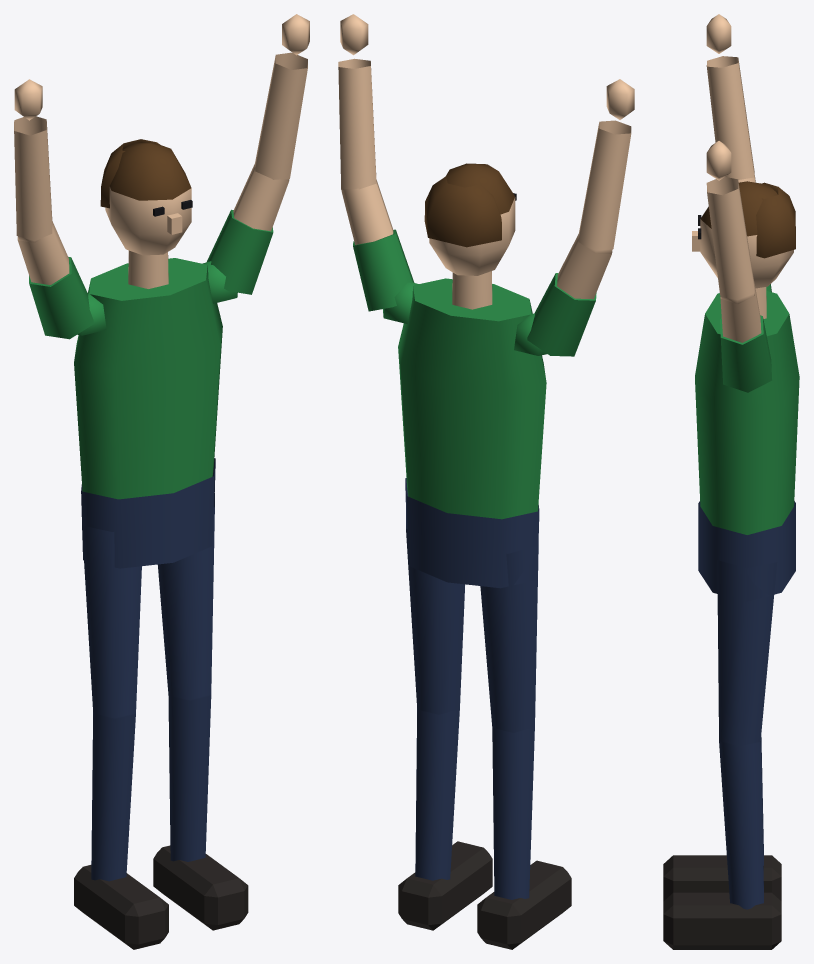
File: fan_f.dae
3 renders of one model, left to right at view 1: azimuth 30°, elevation 25°; view 2: azimuth 150°, elevation 25°; view 3: azimuth 270°, elevation 25°, orthographic. The views are drawn at different scales.
Visible parts, largest first — view 1: marker; view 2: marker; view 3: marker.
Part boxes in pixels (<box>): marker: <box>14,14,309,949</box>; marker: <box>338,14,634,949</box>; marker: <box>663,14,799,949</box>.
Size of the model in its own units: 0.6676 by 0.2762 by 1.9.
Materials: 1 (1 with a texture image).
